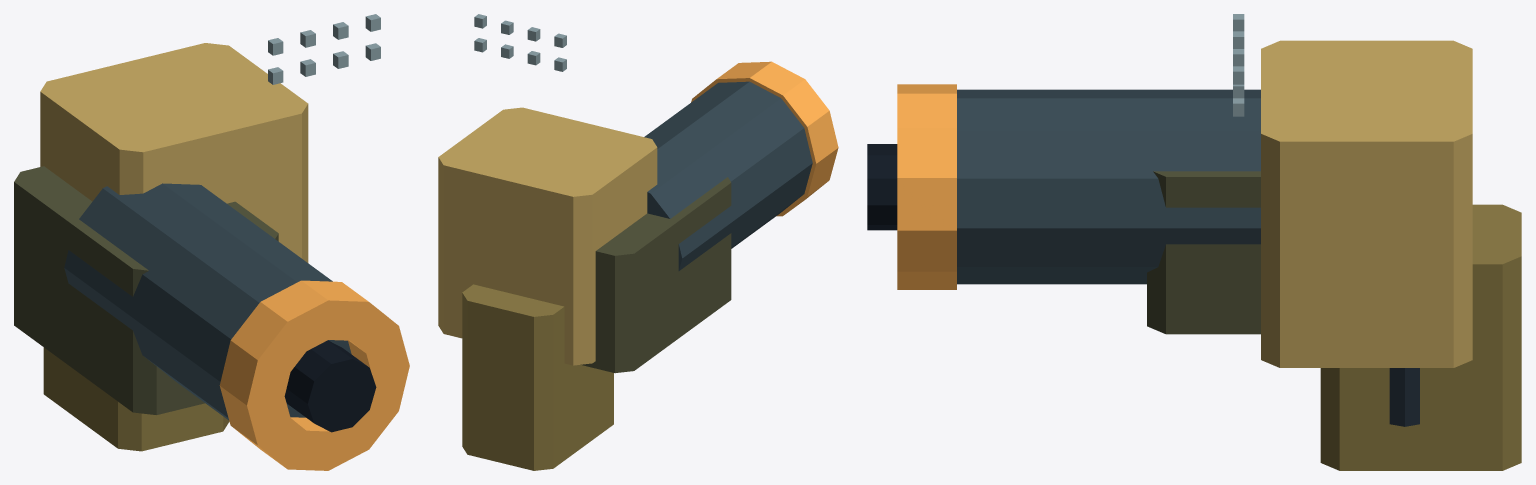
File: enemy_gunner_forearm_l.obj
3 renders of one model, left to right at view 1: azimuth 30°, elevation 25°; view 2: azimuth 150°, elevation 25°; view 3: azimuth 270°, elevation 25°, orthographic. The views are drawn at different scales.
Bounding box in the file's own units: 0.67 × 0.923 × 1.21.
